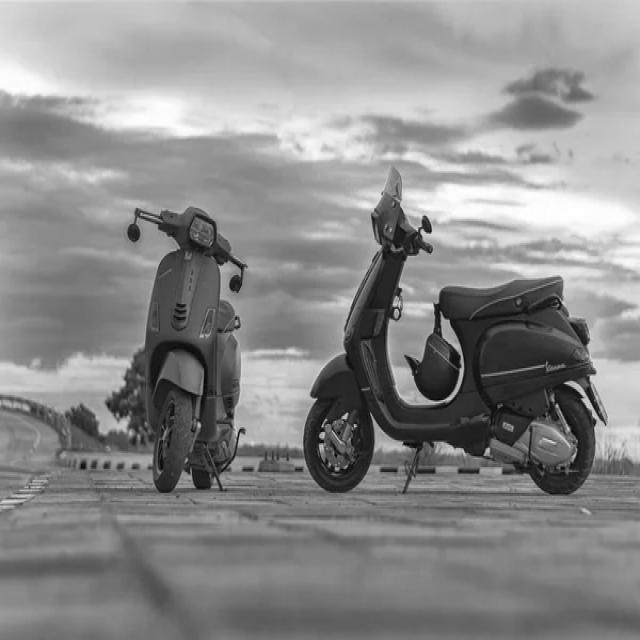Motorcycle: (305, 168, 606, 490), (136, 208, 246, 492)
